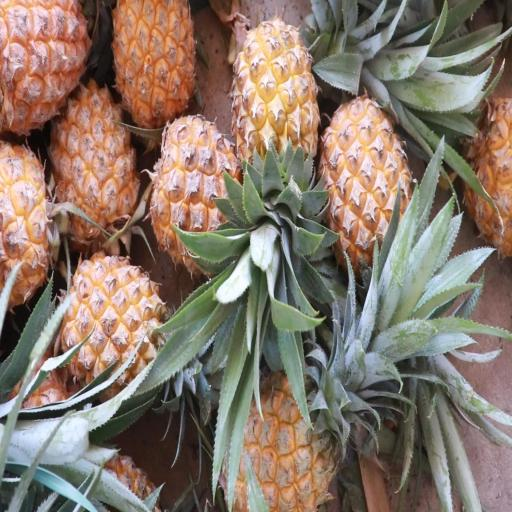Pineapple - v8 v1: (216, 353, 364, 512), (314, 90, 416, 285), (60, 248, 176, 406), (231, 16, 323, 212), (147, 114, 249, 283), (47, 80, 143, 258), (0, 1, 94, 145), (107, 0, 197, 135), (0, 135, 58, 313)
